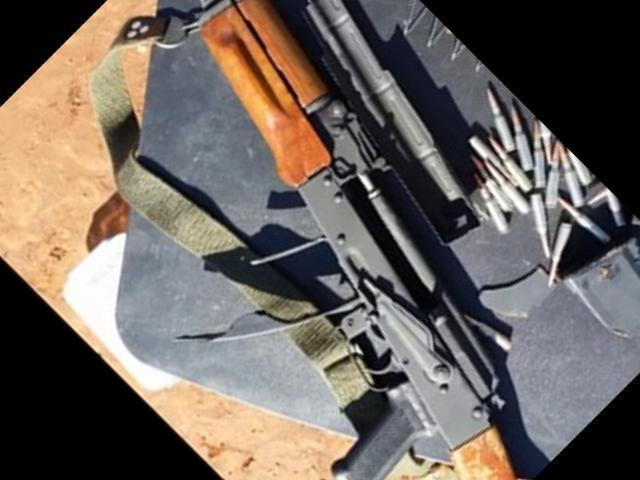larga: (172, 0, 517, 480)
